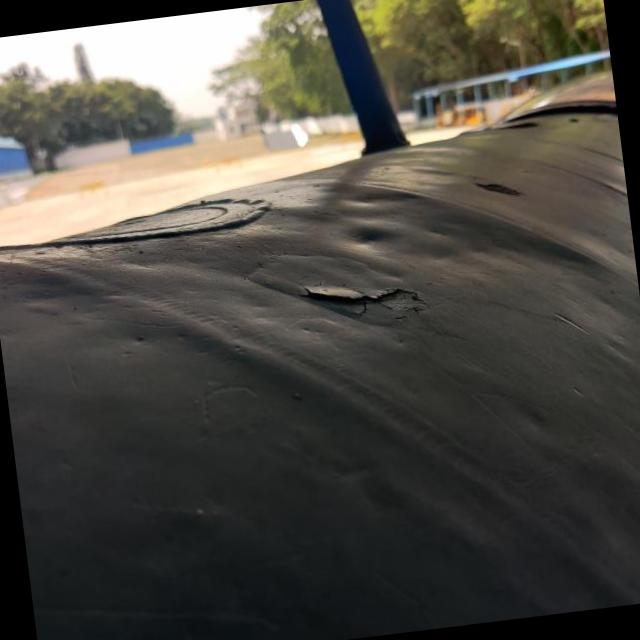Crack: (273, 275, 427, 332)
Dent: (425, 209, 611, 285), (334, 202, 411, 262)
